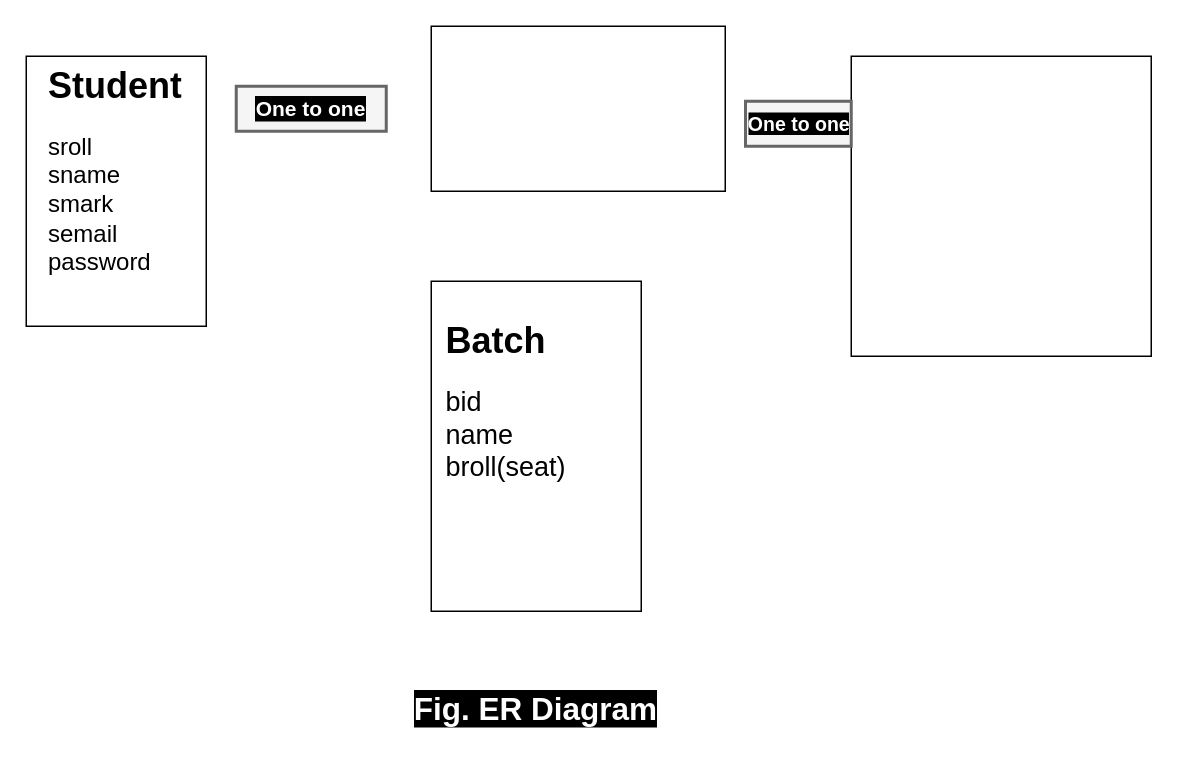
This 1178x758 diagram has some shape labels left out. The shapes that lost their labels are listed below. From the top down, each one's box as (x1, y1, x2, y2) in pixels, then its label:
(430, 25, 725, 191): Studend_batch roll cid
(850, 55, 1151, 356): Course cid cname fee bid
